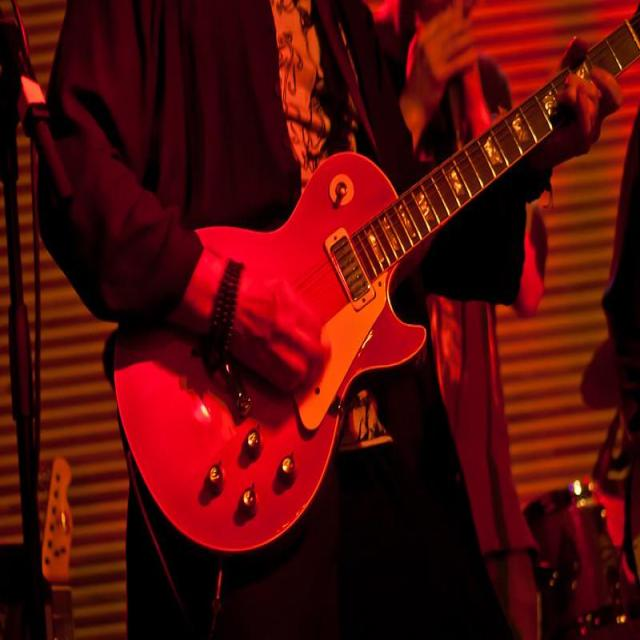guitar: (116, 71, 568, 552)
